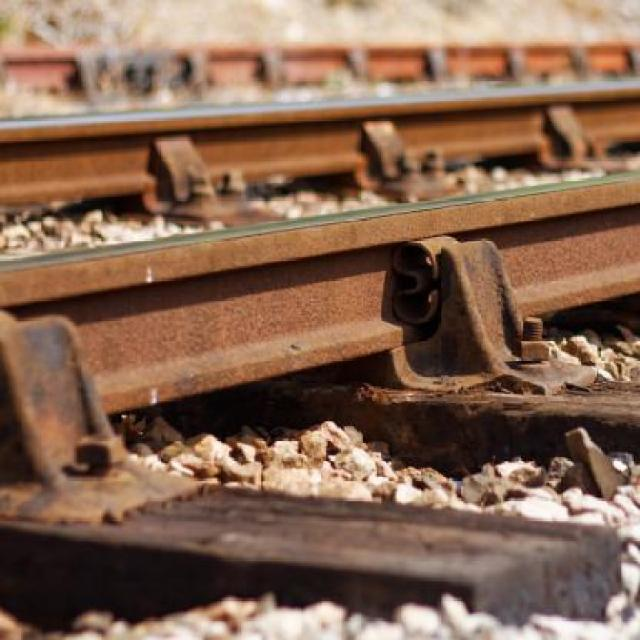defective: (0, 54, 638, 637)
